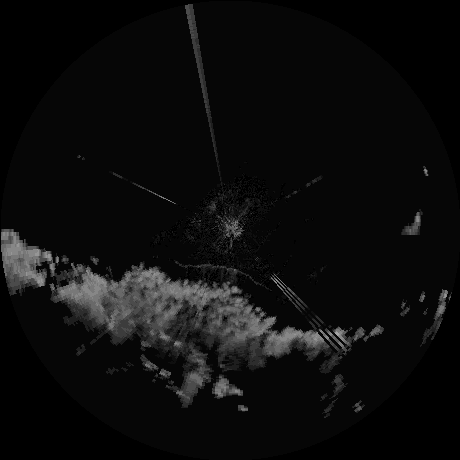frontgust: (176, 259, 262, 285)
